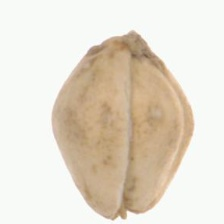L1: (99, 29, 160, 66), (94, 205, 157, 221)
L2: (50, 30, 195, 221)
